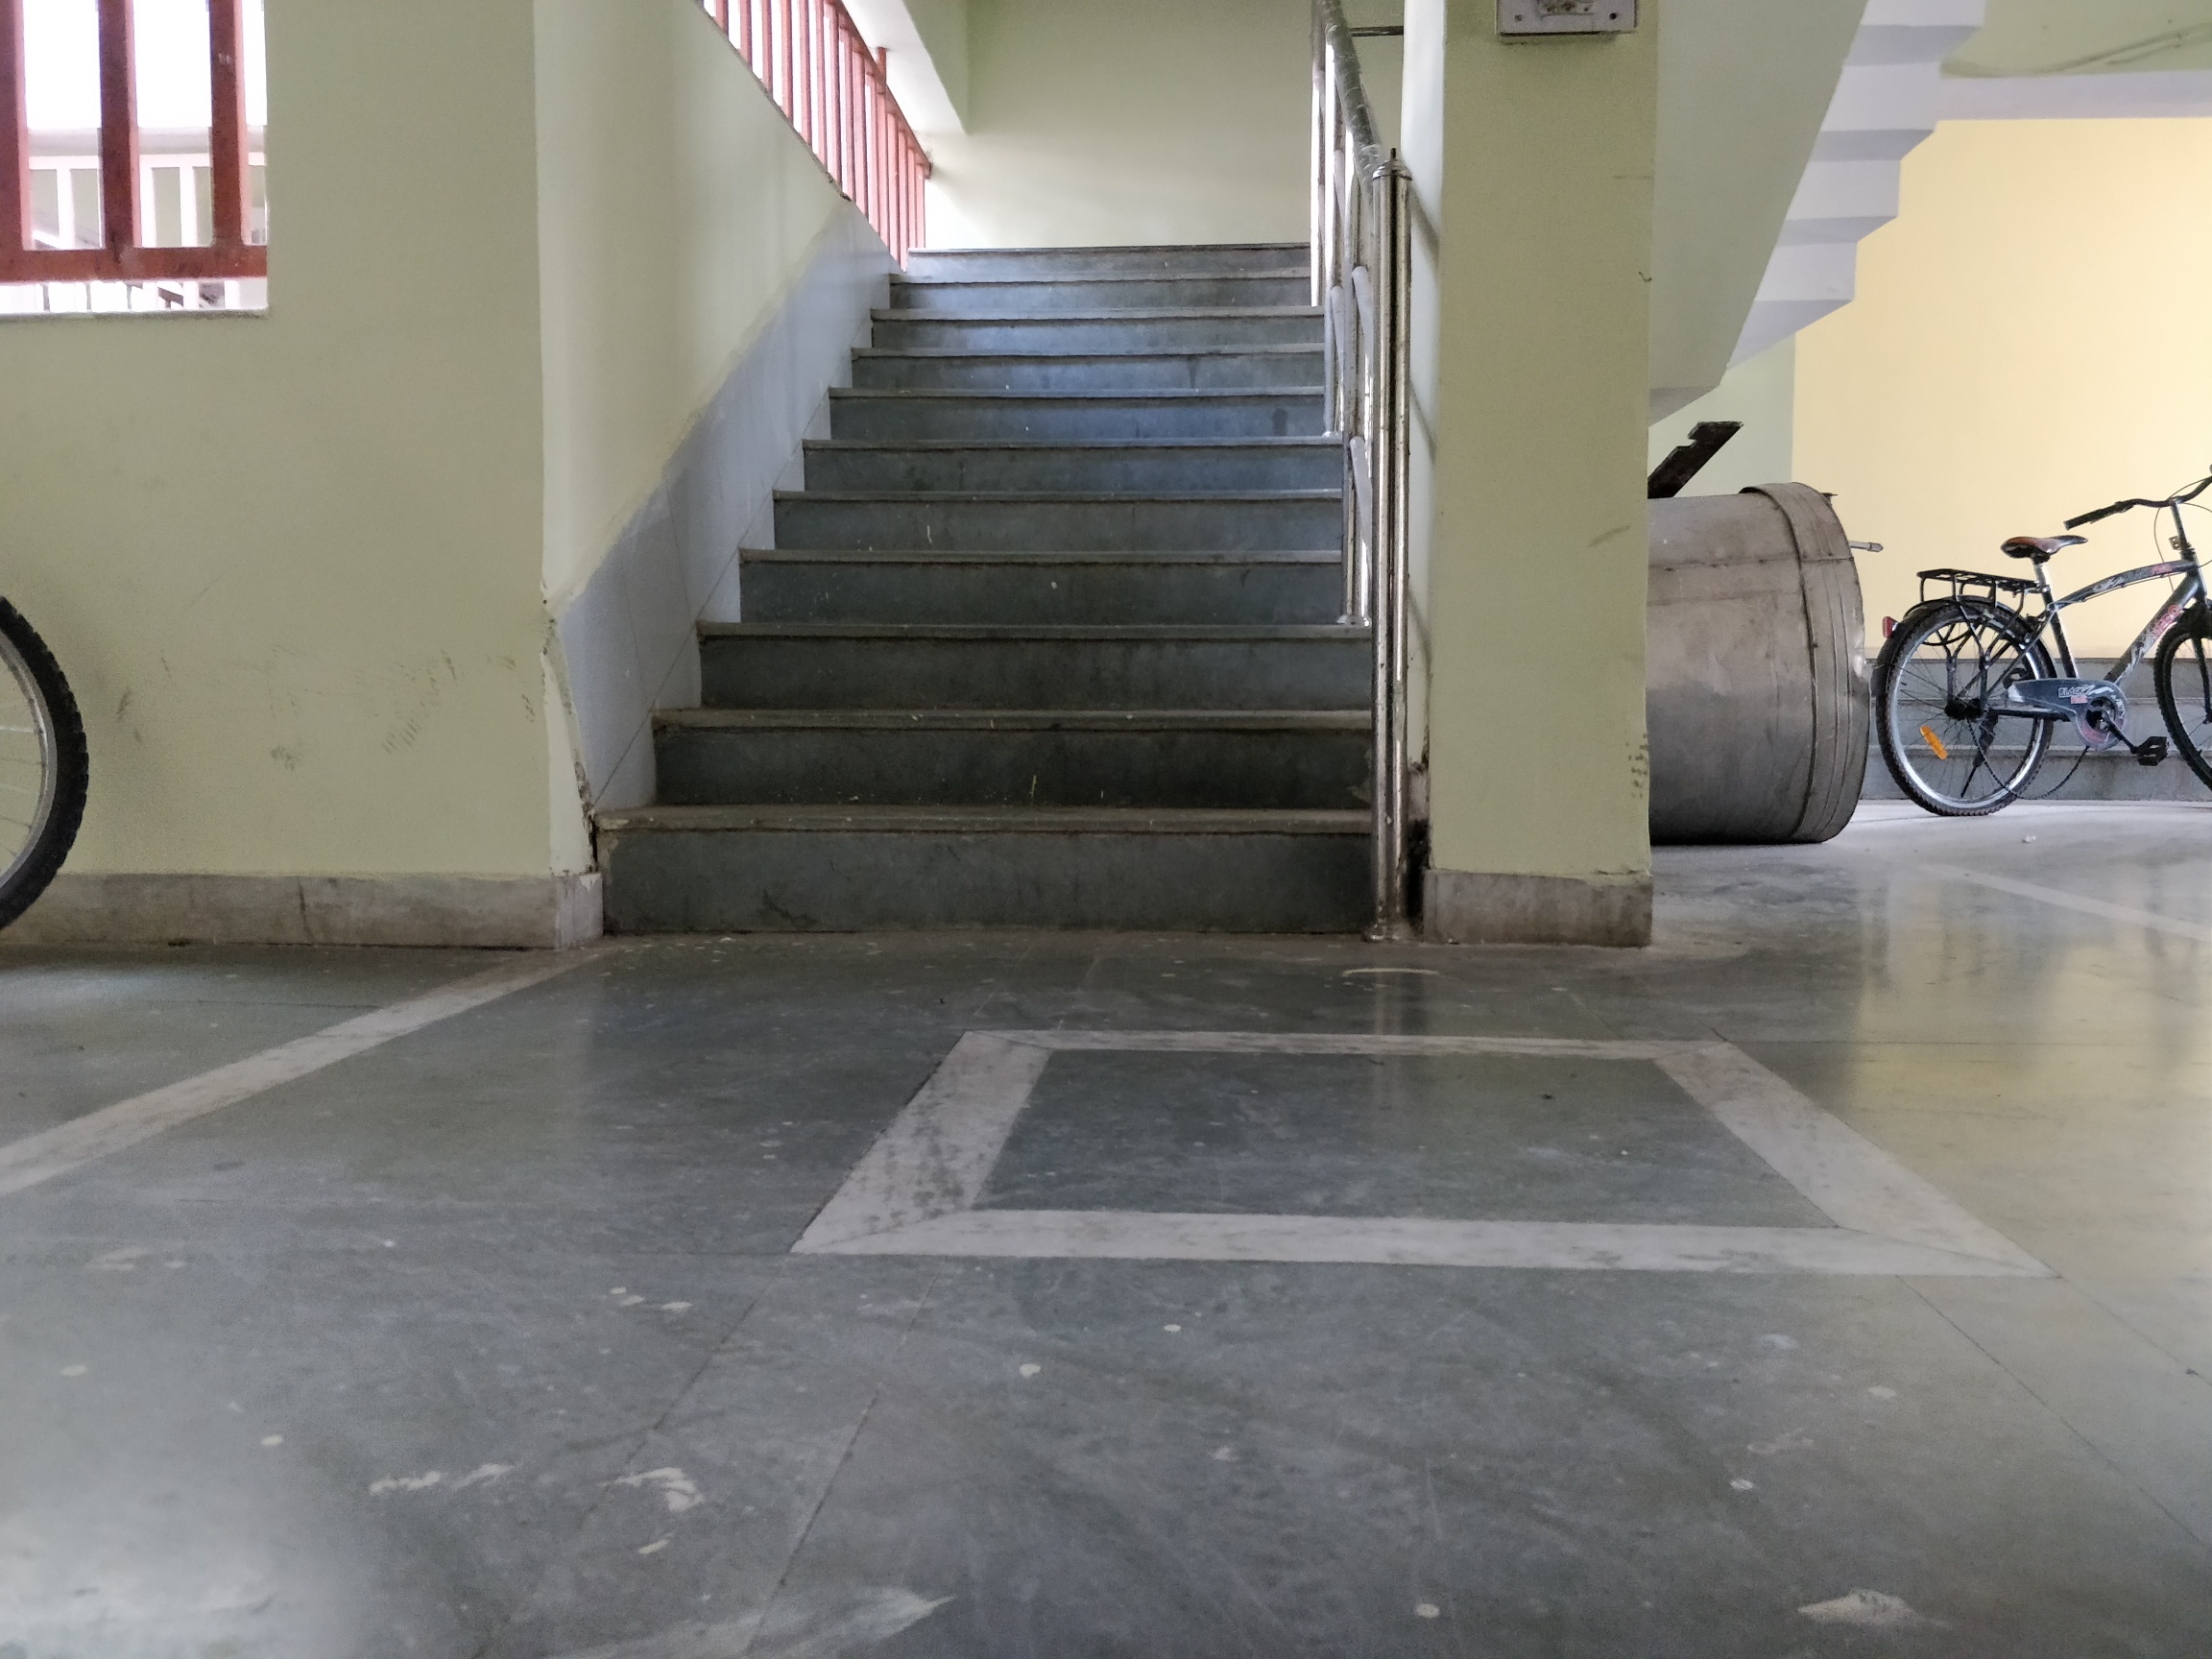stairs_up: (603, 228, 1348, 946)
